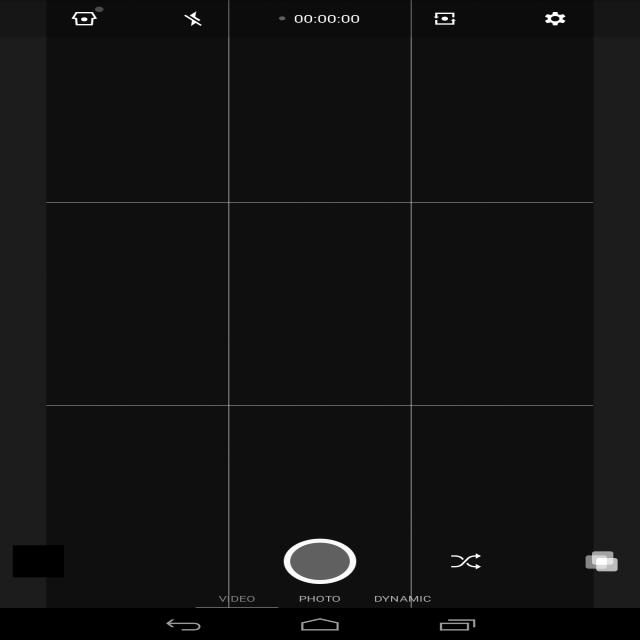ImageButton: (168, 2, 220, 34), (59, 2, 110, 34), (420, 2, 470, 34), (530, 2, 580, 34)
ImageView: (284, 539, 356, 584), (13, 546, 64, 578), (441, 546, 492, 578), (576, 546, 627, 578), (95, 7, 103, 12), (279, 16, 285, 21)
TextView: (294, 11, 360, 26), (374, 593, 431, 604), (298, 593, 341, 604), (218, 593, 256, 604)
